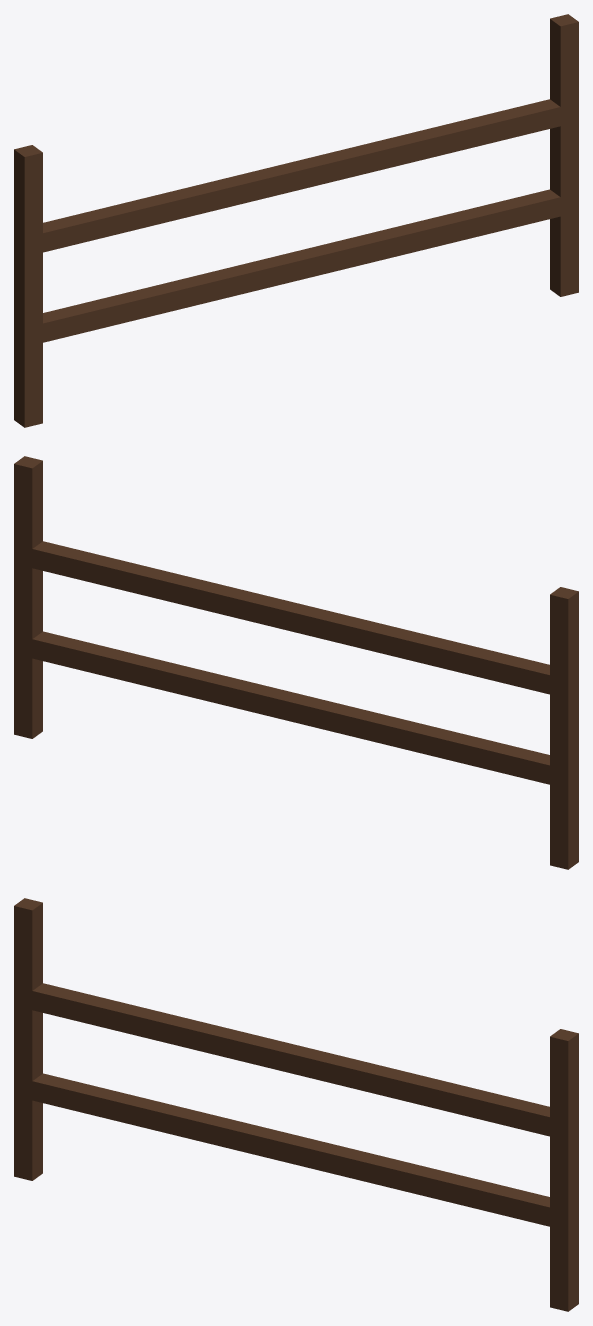
Rendered from BARN_STALL_PARTITION_LODs.fbx.
The picture shows the model from 3 angles, top to bottom: view 1: azimuth 30°, elevation 25°; view 2: azimuth 150°, elevation 25°; view 3: azimuth 330°, elevation 25°; orthographic projection.
Visible parts, largest first — view 1: BARN_STALL_PARTITION_LOD0; view 2: BARN_STALL_PARTITION_LOD0; view 3: BARN_STALL_PARTITION_LOD0.
Part boxes in pixels (x1,y1,x2,y2): BARN_STALL_PARTITION_LOD0: (14,14,578,427); BARN_STALL_PARTITION_LOD0: (14,456,578,869); BARN_STALL_PARTITION_LOD0: (14,898,578,1311).
Size of what is drawn, in the model's own units: 300 by 140 by 10.
